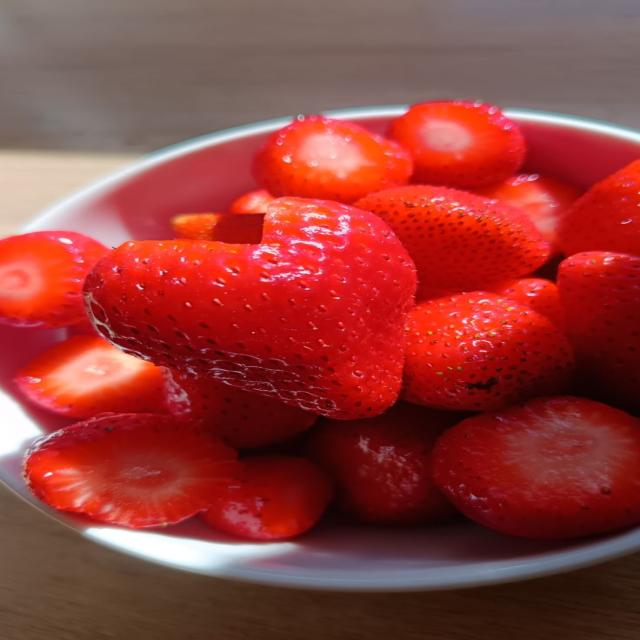strawberry sliced: (86, 199, 415, 418), (434, 397, 639, 538), (25, 414, 239, 527), (355, 186, 549, 291), (403, 292, 573, 410), (308, 403, 459, 524), (254, 116, 412, 203), (558, 252, 639, 408), (16, 335, 162, 418), (164, 370, 317, 448), (389, 101, 525, 188), (201, 455, 332, 540), (0, 231, 108, 327), (558, 160, 639, 255), (478, 174, 580, 246), (487, 278, 564, 328), (171, 213, 263, 243), (230, 190, 275, 213)
